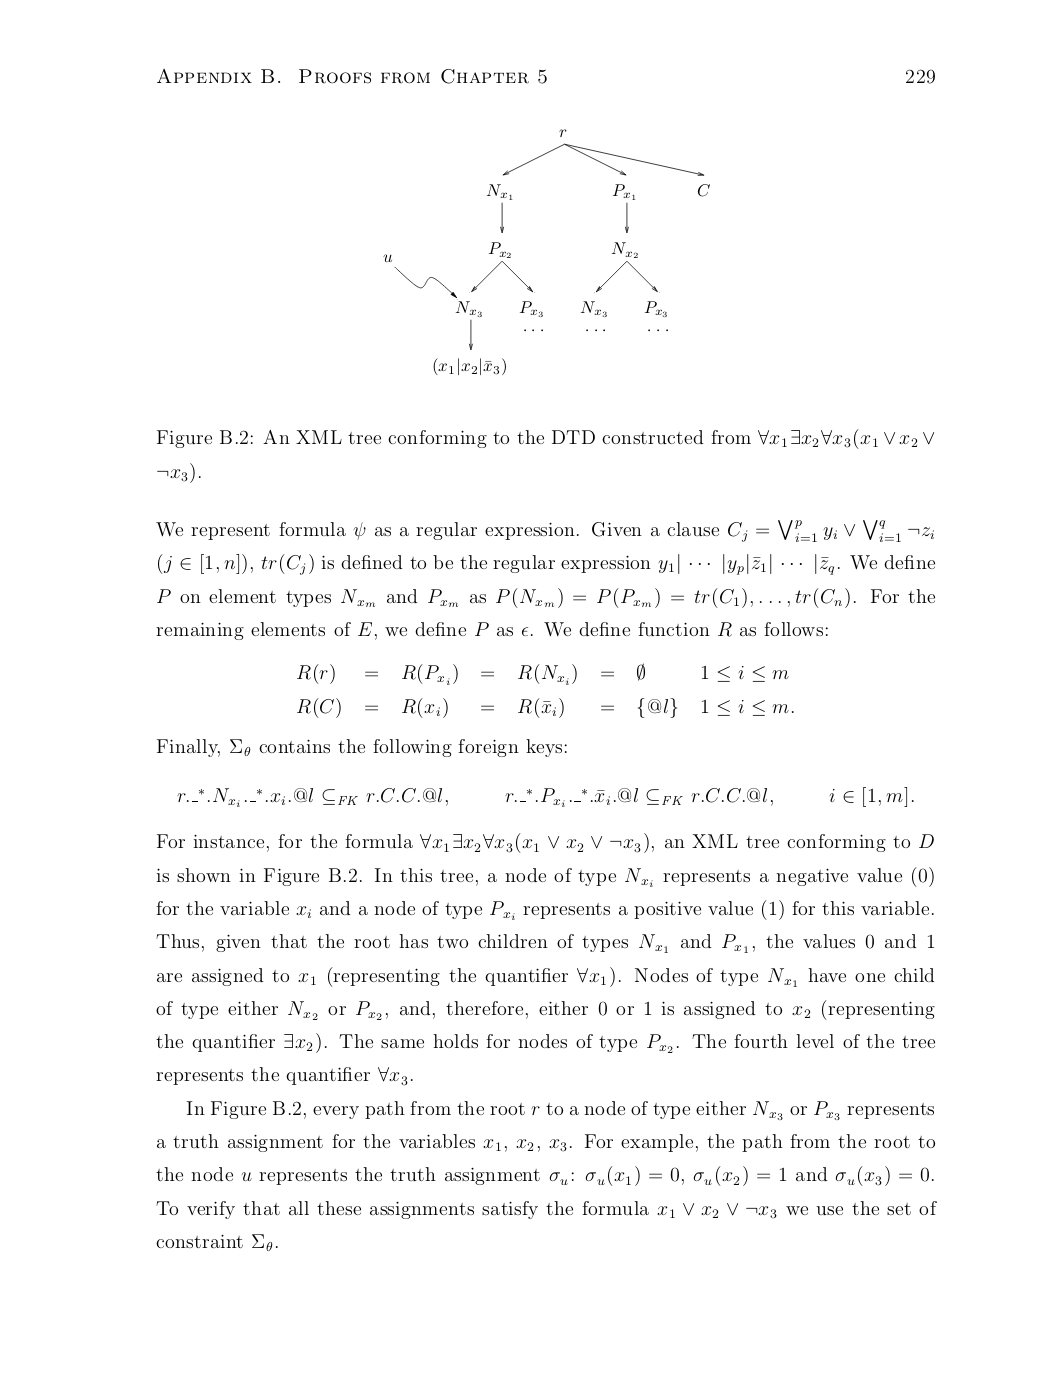figure: (383, 129, 709, 374)
formula: (177, 786, 913, 807), (296, 662, 788, 685), (296, 697, 794, 718)
